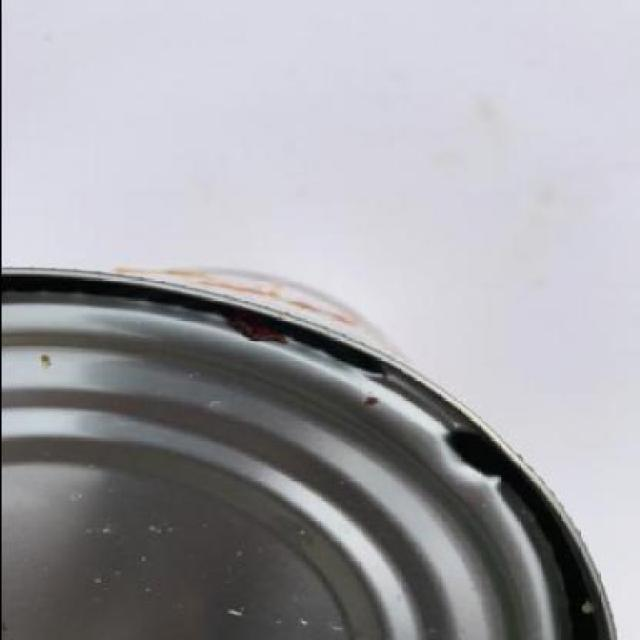METAL: (1, 264, 618, 638)
